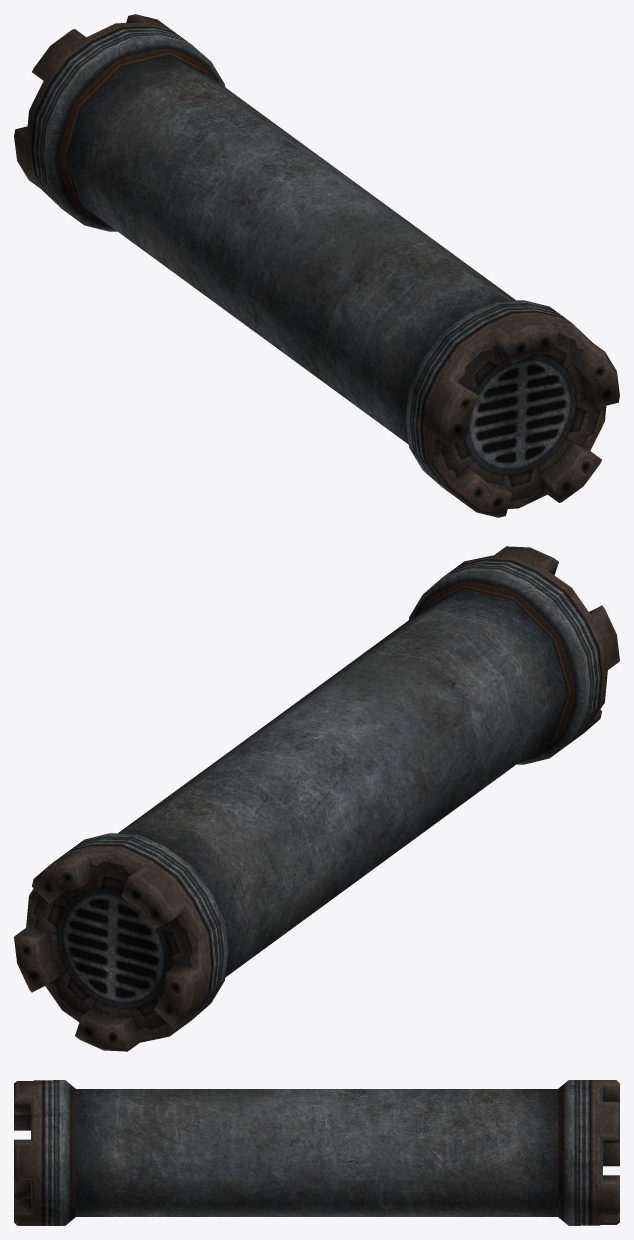
Rendered from tech_brown_long.dae.
3 views of the same model, one above another, from view 1: azimuth 30°, elevation 25°; view 2: azimuth 150°, elevation 25°; view 3: azimuth 270°, elevation 25° (orthographic). The views are drawn at different scales.
Visible parts, largest first — view 1: polySurface779; view 2: polySurface779; view 3: polySurface779.
Boxes of the visible parts, bbox=[...] form: polySurface779: bbox=[14, 14, 619, 517]; polySurface779: bbox=[14, 546, 619, 1051]; polySurface779: bbox=[14, 1080, 619, 1225].
Size of the model in its own units: 0.4984 by 0.5035 by 2.06.
Materials: 1 (1 with a texture image).
